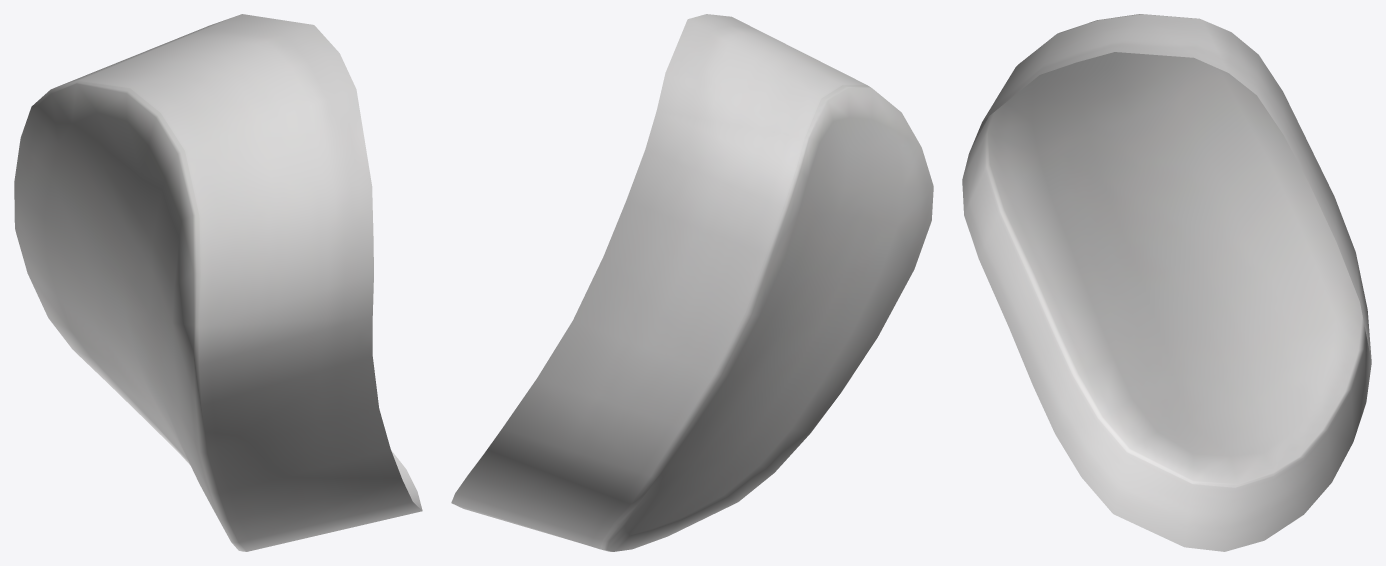
Rendered from right_grip.obj.
3 views of the same model, side by side, from view 1: azimuth 30°, elevation 25°; view 2: azimuth 150°, elevation 25°; view 3: azimuth 270°, elevation 25° (orthographic). The views are drawn at different scales.
Parts seen in each view (by area): view 1: right_grip; view 2: right_grip; view 3: right_grip.
Part boxes in pixels (x1,y1,x2,y2): right_grip: [14, 14, 422, 551]; right_grip: [451, 14, 933, 551]; right_grip: [962, 14, 1371, 551].
Bounding box in the file's own units: 0.0144 × 0.0208 × 0.0175.
Materials: 1 (1 with a texture image).
